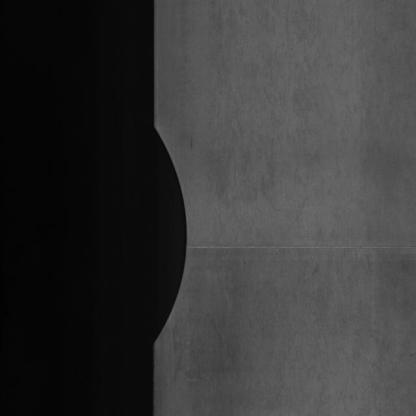crescent_gap: (129, 109, 194, 356)
welding_line: (178, 230, 414, 269)
